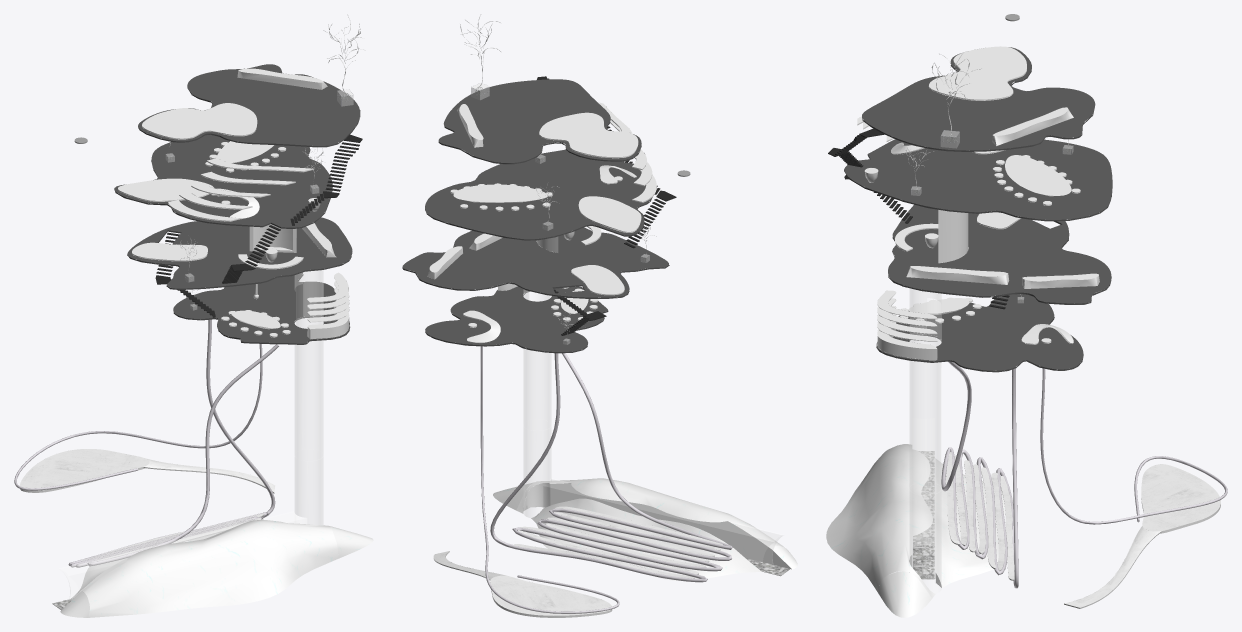
3 views of the same model, side by side, from view 1: azimuth 30°, elevation 25°; view 2: azimuth 150°, elevation 25°; view 3: azimuth 270°, elevation 25° (orthographic). The views are drawn at different scales.
Visible parts, largest first — view 1: katsextru - Asansordelikle, topos, EXTR, ELEV, GF PLATFORMS, PIPE, merdiven; view 2: katsextru - Asansordelikle, EXTR, topos, PIPE, ELEV, GF PLATFORMS, merdiven; view 3: katsextru - Asansordelikle, EXTR, topos, GF PLATFORMS, ELEV, PIPE, ELEV-PLN 1, merdiven.
Boxes of the visible parts, bbox=[...] form: katsextru - Asansordelikle: bbox=[114, 64, 360, 344]; topos: bbox=[60, 519, 373, 617]; EXTR: bbox=[118, 68, 349, 339]; ELEV: bbox=[59, 270, 323, 598]; GF PLATFORMS: bbox=[19, 449, 275, 560]; PIPE: bbox=[14, 319, 278, 567]; merdiven: bbox=[155, 134, 362, 317]; katsextru - Asansordelikle: bbox=[402, 79, 669, 353]; EXTR: bbox=[427, 102, 656, 343]; topos: bbox=[493, 478, 797, 580]; PIPE: bbox=[480, 346, 732, 613]; ELEV: bbox=[523, 289, 783, 571]; GF PLATFORMS: bbox=[433, 506, 722, 617]; merdiven: bbox=[537, 76, 676, 335]; katsextru - Asansordelikle: bbox=[844, 47, 1112, 372]; EXTR: bbox=[857, 46, 1099, 360]; topos: bbox=[826, 444, 1005, 617]; GF PLATFORMS: bbox=[946, 452, 1220, 608]; ELEV: bbox=[909, 288, 941, 593]; PIPE: bbox=[941, 361, 1227, 588]; ELEV-PLN 1: bbox=[913, 451, 934, 579]; merdiven: bbox=[828, 128, 1009, 309].
Size of what is drawn, in the model's own units: 30.39 by 45.61 by 29.47.
Materials: 29 (3 with a texture image).
